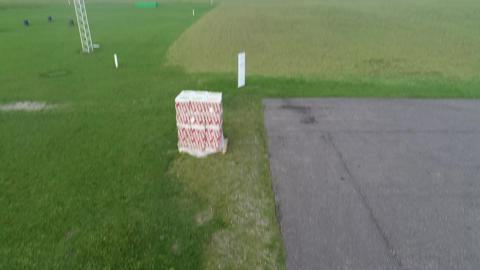RockwoolPallet: (174, 89, 226, 157)
